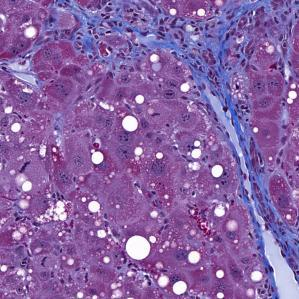fibrosis: (73, 5, 247, 78)
